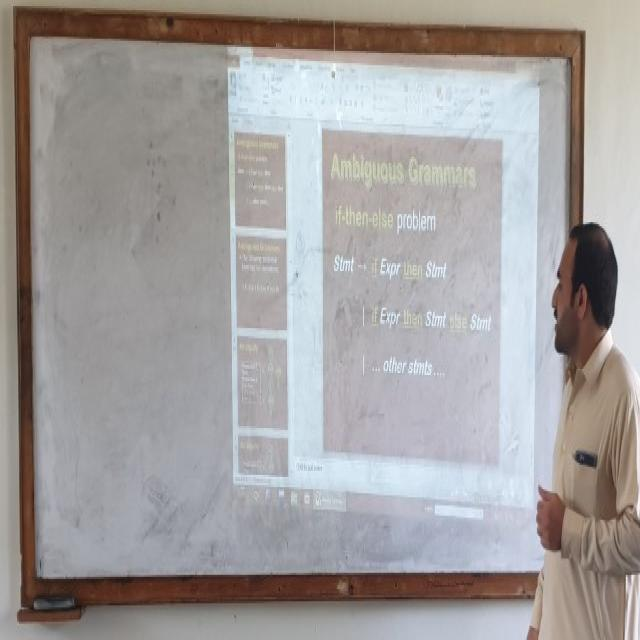Instructor: (529, 209, 630, 632)
Slide: (226, 31, 539, 537)
White-board: (20, 18, 578, 592)
